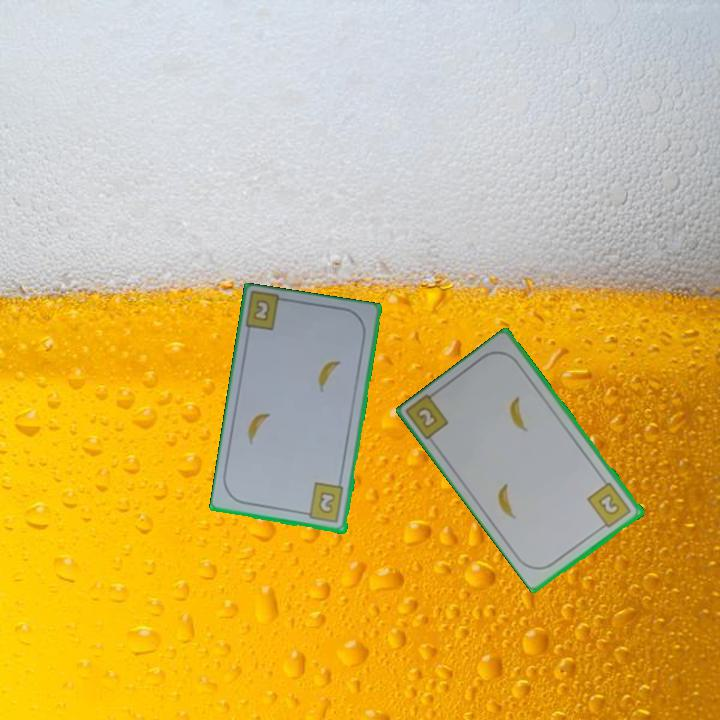2b: (584, 479, 634, 532), (300, 480, 347, 526), (250, 296, 273, 324), (415, 405, 438, 429)
